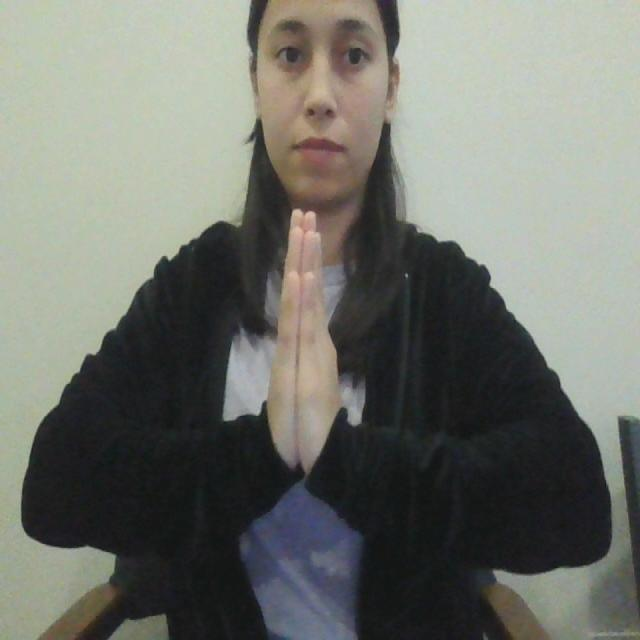Ozur-Dilemek: (262, 202, 346, 488)
